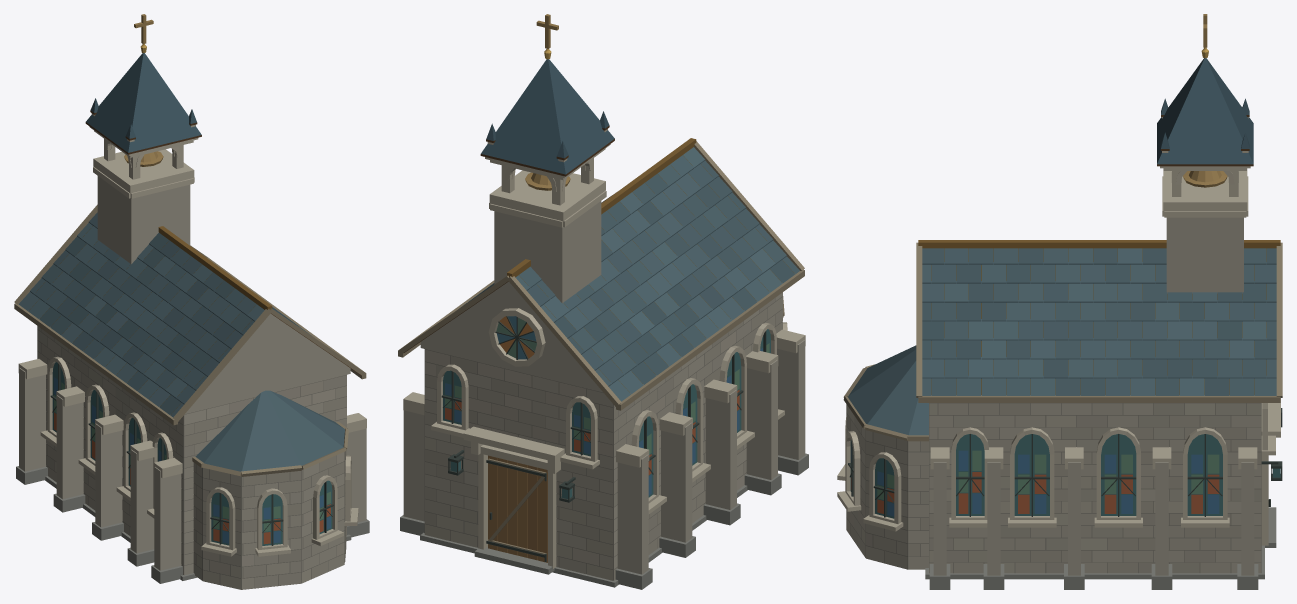
File: Church.glb
3 renders of one model, left to right at view 1: azimuth 30°, elevation 25°; view 2: azimuth 150°, elevation 25°; view 3: azimuth 270°, elevation 25°, orthographic. The views are drawn at different scales.
Visible parts, largest first — view 1: Church, ChurchGlass; view 2: Church, ChurchDoor, ChurchGlass; view 3: Church, ChurchGlass.
Boxes of the visible parts, box(x1,y1,x2,y2) form: Church: box(14, 14, 369, 589); ChurchGlass: box(52, 362, 332, 545); Church: box(398, 14, 808, 589); ChurchDoor: box(486, 455, 547, 562); ChurchGlass: box(443, 316, 770, 498); Church: box(837, 14, 1282, 589); ChurchGlass: box(850, 434, 1280, 518).
Size of the model in its own units: 7.31 by 15.19 by 11.85.
